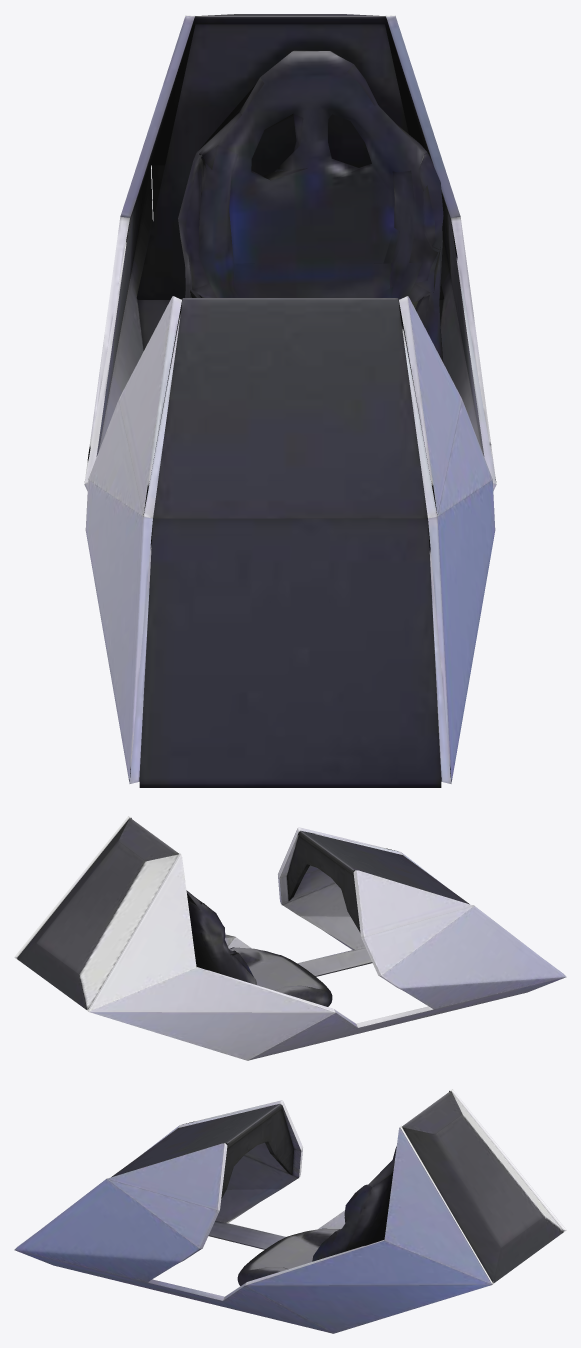
The model's file is taikongchuan.glb.
3 views of the same model, one above another, from view 1: azimuth 30°, elevation 25°; view 2: azimuth 150°, elevation 25°; view 3: azimuth 270°, elevation 25° (orthographic). The views are drawn at different scales.
Parts seen in each view (by area): view 1: 太空船; view 2: 太空船; view 3: 太空船.
Boxes of the visible parts, <box> form: 太空船: <box>84,14,496,787</box>; 太空船: <box>14,816,566,1060</box>; 太空船: <box>14,1089,566,1333</box>.
Bounding box in the file's own units: 3.08 × 1.78 × 4.17.
1 material, 1 textured.
